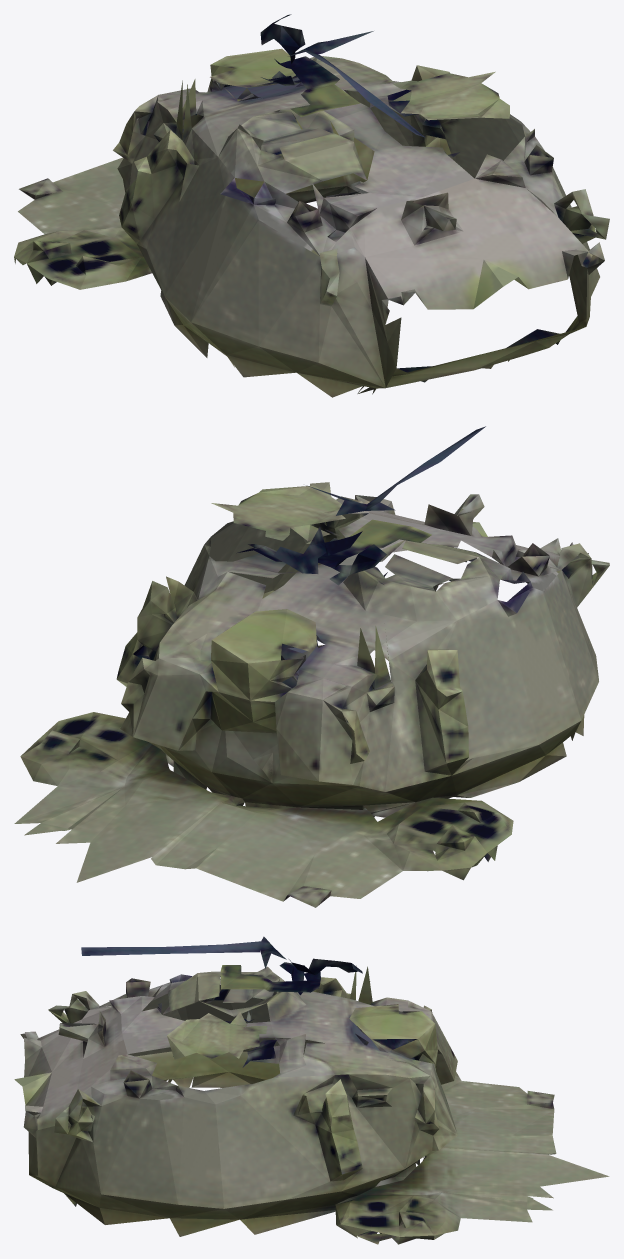
The model's file is chaffee_turret.obj.
3 renders of one model, top to bottom at view 1: azimuth 30°, elevation 25°; view 2: azimuth 150°, elevation 25°; view 3: azimuth 270°, elevation 25°, orthographic. The views are drawn at different scales.
Visible parts, largest first — view 1: chaffee_turret; view 2: chaffee_turret; view 3: chaffee_turret.
Part boxes in pixels (<box>): chaffee_turret: <box>14,14,609,397</box>; chaffee_turret: <box>14,426,609,907</box>; chaffee_turret: <box>14,936,609,1244</box>.
Size of the model in its own units: 2.38 by 1.27 by 3.29.
1 material, 1 textured.
